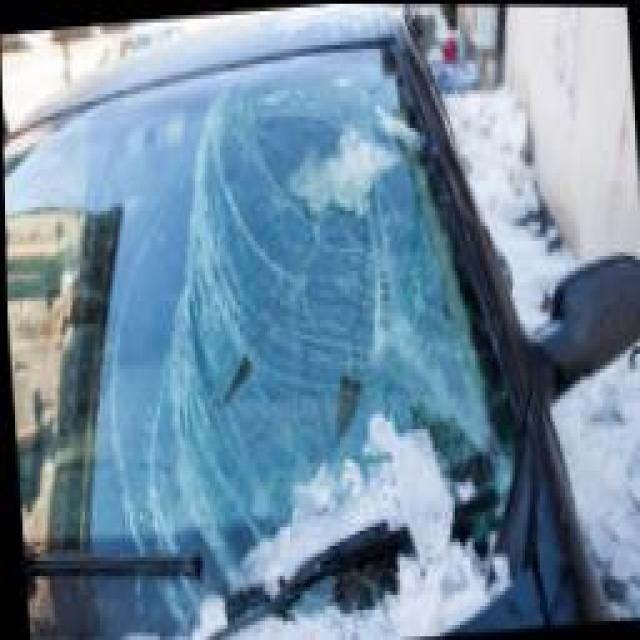Windshield: (70, 30, 507, 639)
